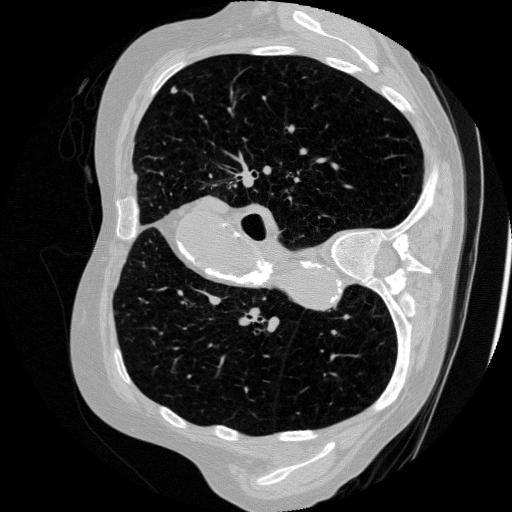nodule: (168, 82, 182, 96)
